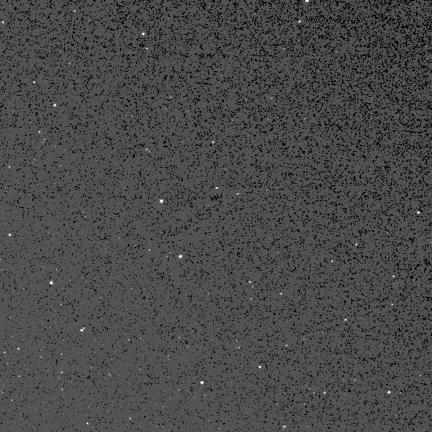blob: (54, 104, 57, 108), (142, 33, 146, 36), (200, 381, 204, 384), (179, 255, 182, 258), (9, 234, 12, 237), (160, 200, 163, 203), (50, 281, 53, 284), (259, 366, 262, 369)
